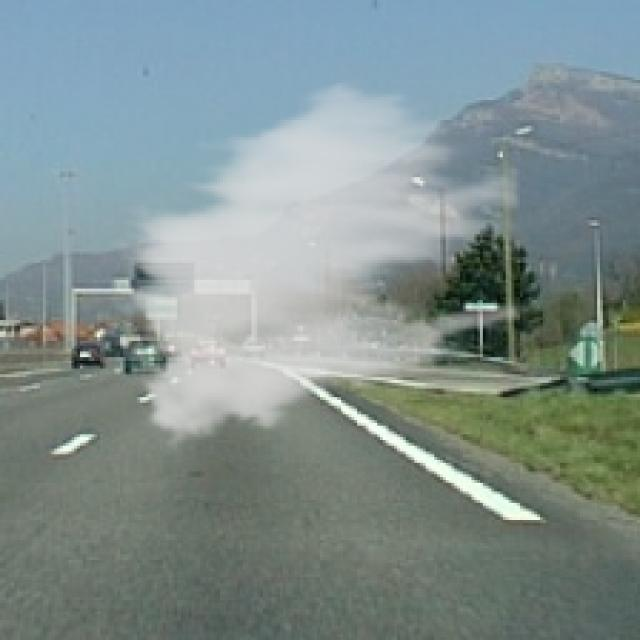smoke: (111, 72, 520, 457)
